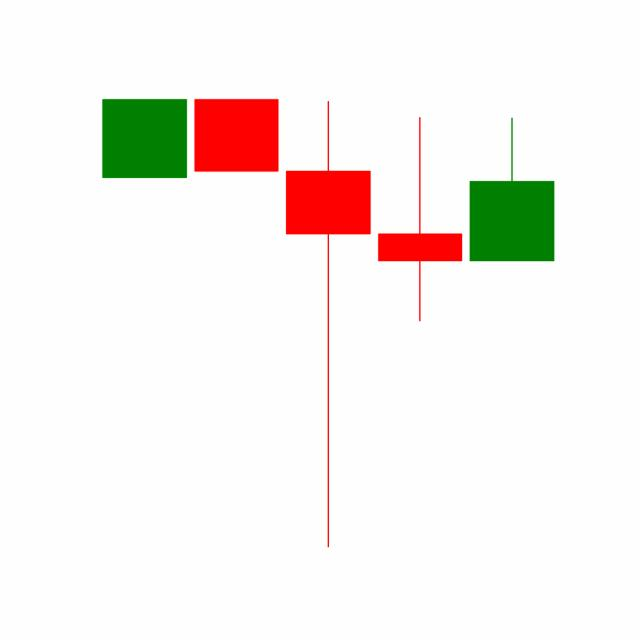Spinning Top: (373, 114, 467, 323)
